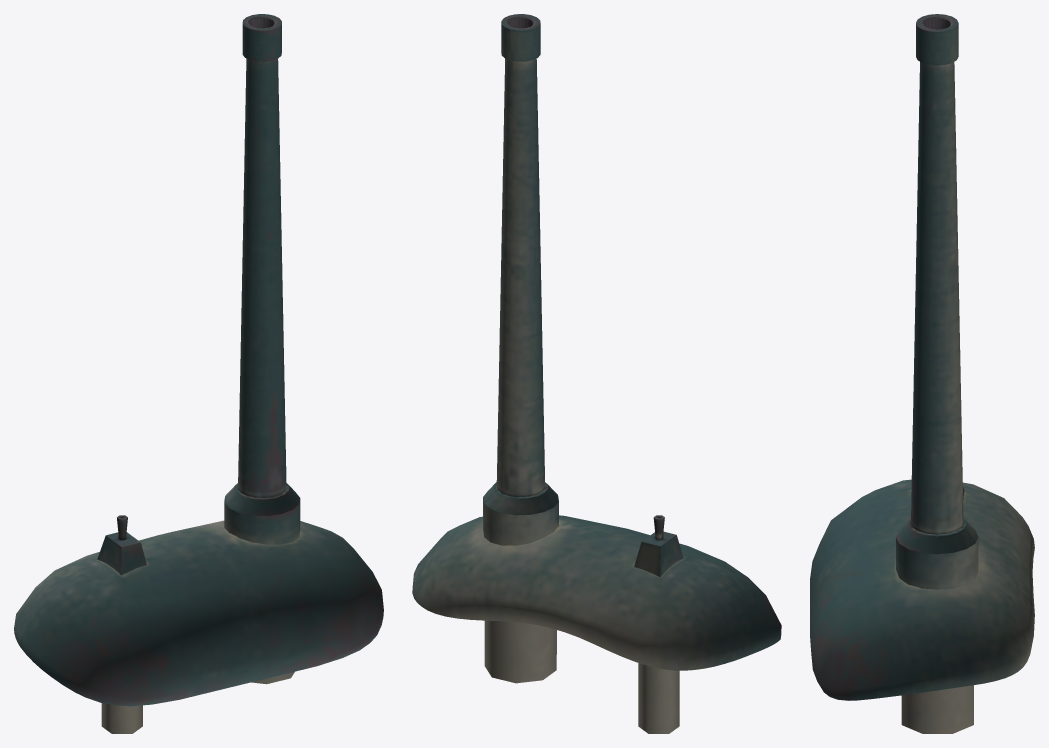
Rendered from Gun_07.glb.
3 renders of one model, left to right at view 1: azimuth 30°, elevation 25°; view 2: azimuth 150°, elevation 25°; view 3: azimuth 270°, elevation 25°, orthographic. The views are drawn at different scales.
Visible parts, largest first — view 1: set_0_group_0; view 2: set_0_group_0; view 3: set_0_group_0.
Part boxes in pixels (x1,y1,x2,y2): set_0_group_0: [14, 14, 383, 733]; set_0_group_0: [412, 14, 781, 733]; set_0_group_0: [810, 14, 1034, 733].
Size of the model in its own units: 0.7181 by 1.37 by 0.3868.
1 material, 1 textured.
